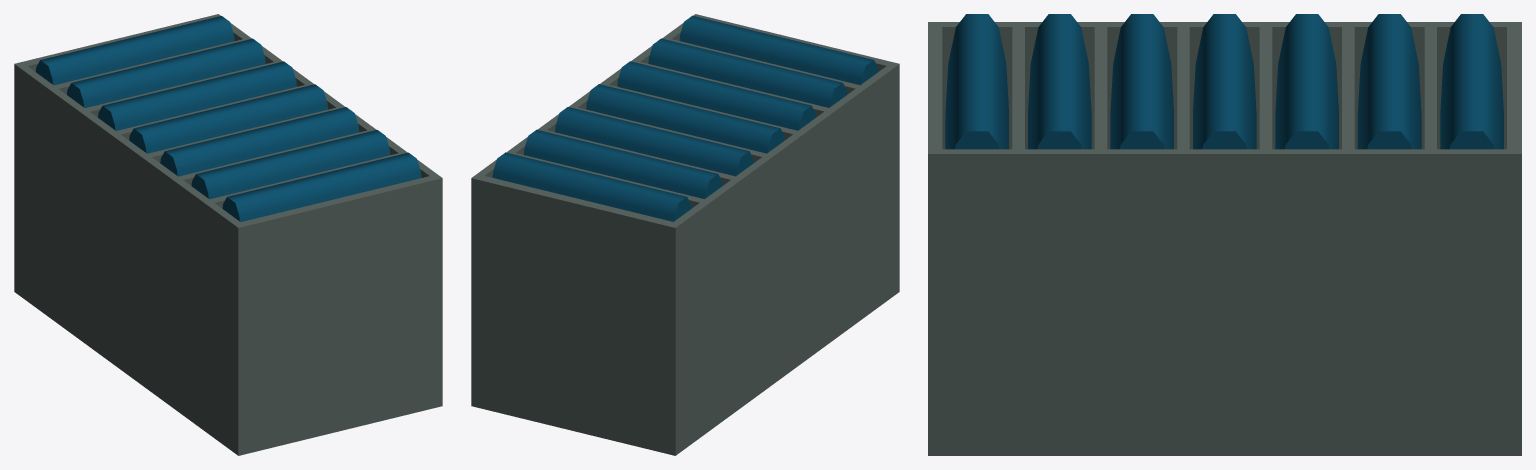
The model's file is chtani.fbx.
3 renders of one model, left to right at view 1: azimuth 30°, elevation 25°; view 2: azimuth 150°, elevation 25°; view 3: azimuth 270°, elevation 25°, orthographic. The views are drawn at different scales.
Visible parts, largest first — view 1: Cube.002, Cube.003; view 2: Cube.002, Cube.003; view 3: Cube.002, Cube.003.
Boxes of the visible parts, box(x1,y1,x2,y2) form: Cube.002: box(14, 14, 442, 455); Cube.003: box(35, 16, 421, 221); Cube.002: box(471, 14, 899, 455); Cube.003: box(492, 15, 878, 221); Cube.002: box(928, 22, 1521, 455); Cube.003: box(945, 14, 1503, 149).
Size of the model in its own units: 188 by 210 by 357.
